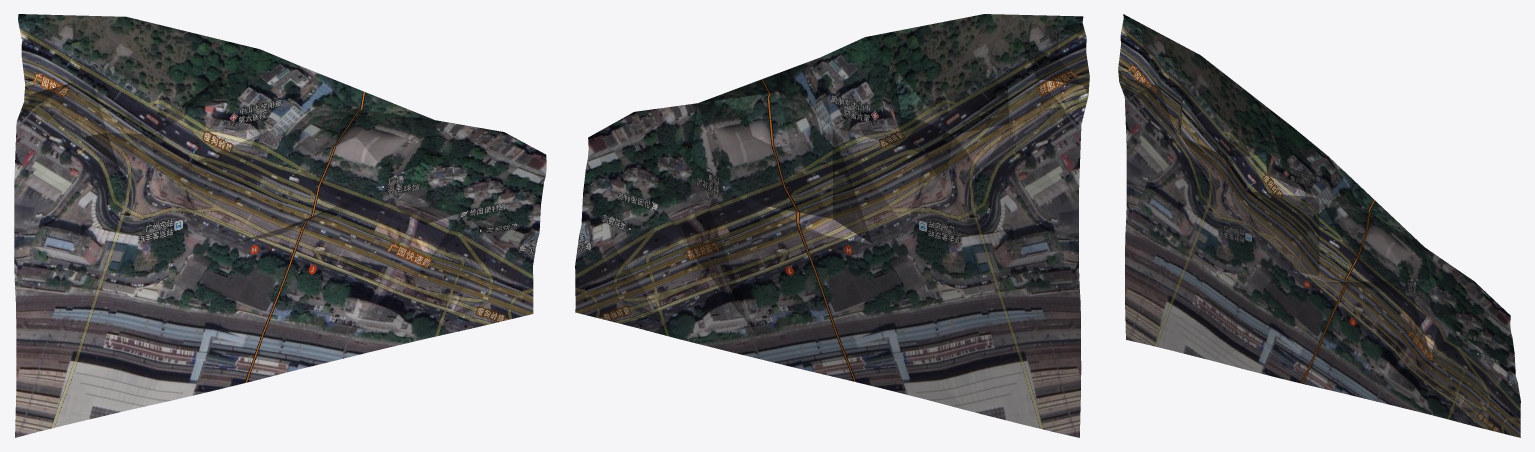
The picture shows the model from 3 angles, left to right: view 1: azimuth 30°, elevation 25°; view 2: azimuth 150°, elevation 25°; view 3: azimuth 330°, elevation 25°; orthographic projection. The views are drawn at different scales.
Visible parts, largest first — view 1: 0_1_0_2_2_3; view 2: 0_1_0_2_2_3; view 3: 0_1_0_2_2_3.
Part boxes in pixels (bbox=[...]): 0_1_0_2_2_3: bbox=[14, 14, 546, 437]; 0_1_0_2_2_3: bbox=[575, 14, 1089, 437]; 0_1_0_2_2_3: bbox=[1118, 14, 1520, 437].
Bounding box in the file's own units: 486 × 384 × 33.6.
1 material, 1 textured.
